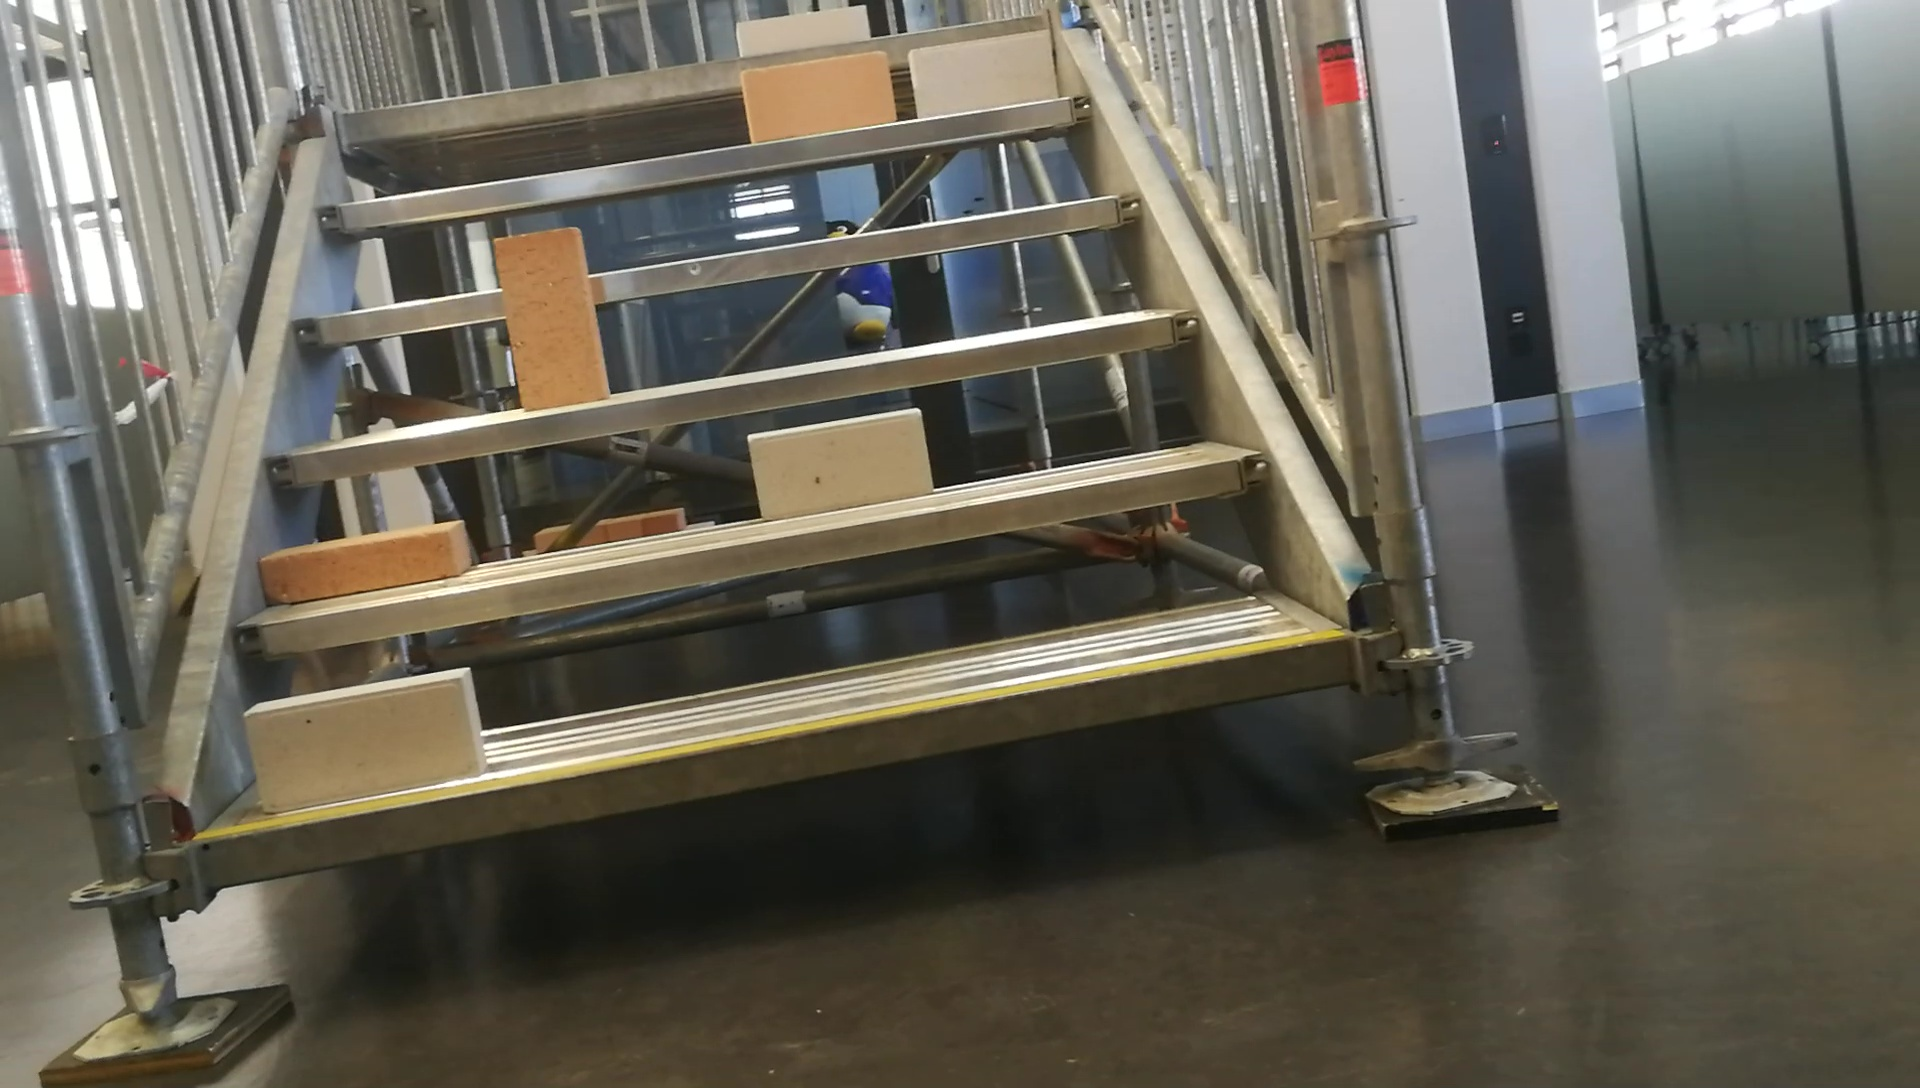brick: (243, 666, 483, 804), (495, 228, 607, 410), (752, 408, 927, 516), (257, 518, 464, 601), (740, 50, 893, 145), (910, 32, 1058, 115), (736, 5, 865, 51)
edge: (207, 630, 1350, 885), (235, 455, 1258, 655), (265, 313, 1200, 480), (295, 195, 1135, 349), (319, 98, 1088, 232)
stairs: (40, 3, 1563, 1085)
steps: (178, 3, 1362, 903)
